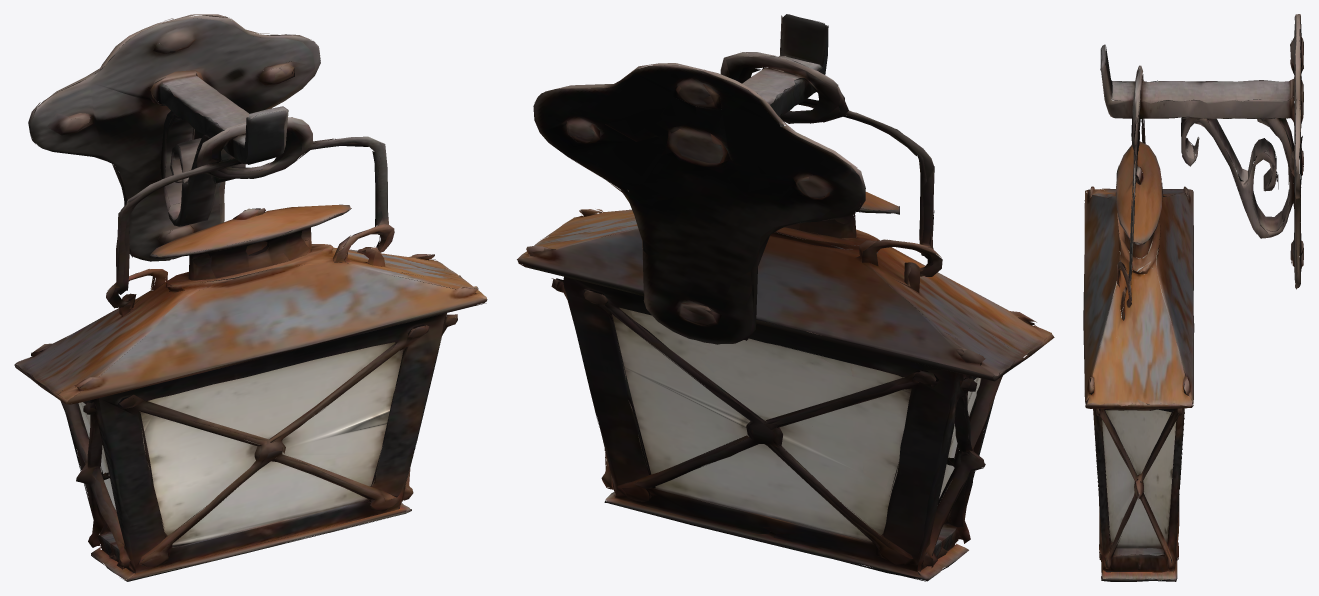
The model's file is farol_brazo.glb.
The picture shows the model from 3 angles, left to right: view 1: azimuth 30°, elevation 25°; view 2: azimuth 150°, elevation 25°; view 3: azimuth 270°, elevation 25°; orthographic projection. The views are drawn at different scales.
Parts seen in each view (by area): view 1: geometry_0; view 2: geometry_0; view 3: geometry_0.
Part boxes in pixels (x1,y1,x2,y2): geometry_0: (14, 14, 487, 581); geometry_0: (517, 14, 1054, 581); geometry_0: (1083, 14, 1303, 581).
Size of the model in its own units: 0.7004 by 0.7494 by 0.3023.
Materials: 1 (1 with a texture image).
